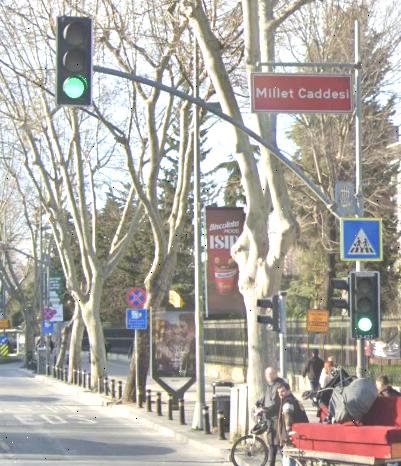greenlight: (57, 15, 90, 107), (350, 269, 380, 344)
